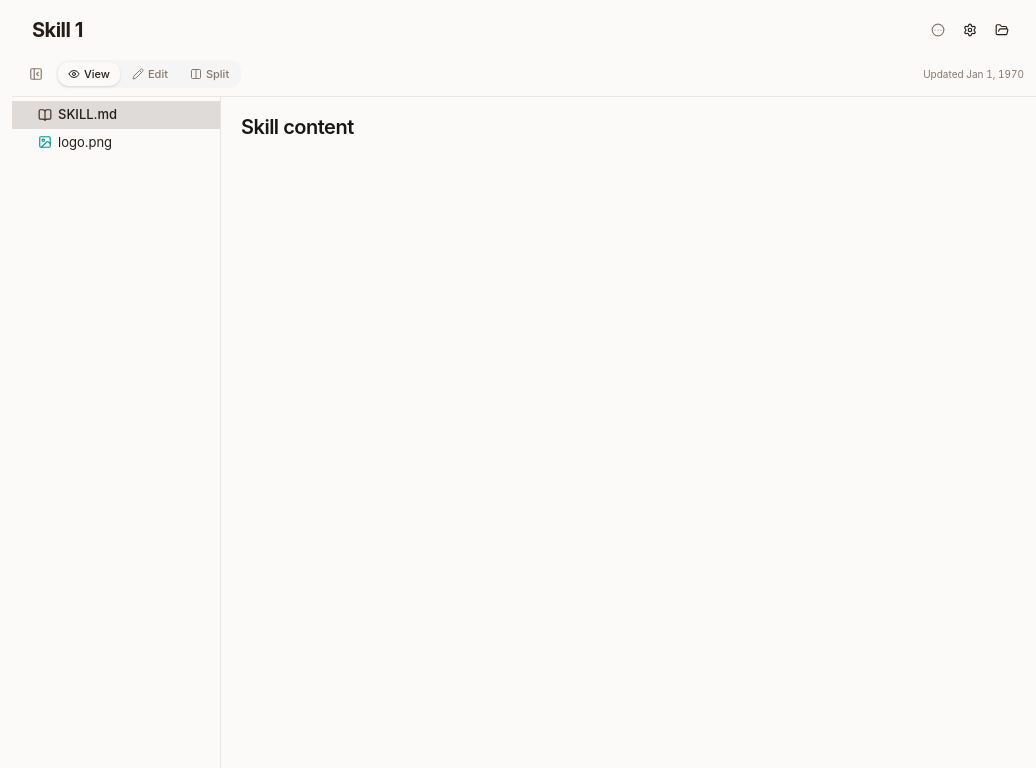
Scenario: SkillDetail › previews image files from the file tree
Click the button "logo.png" at (116,142), box [12,128,220,156]
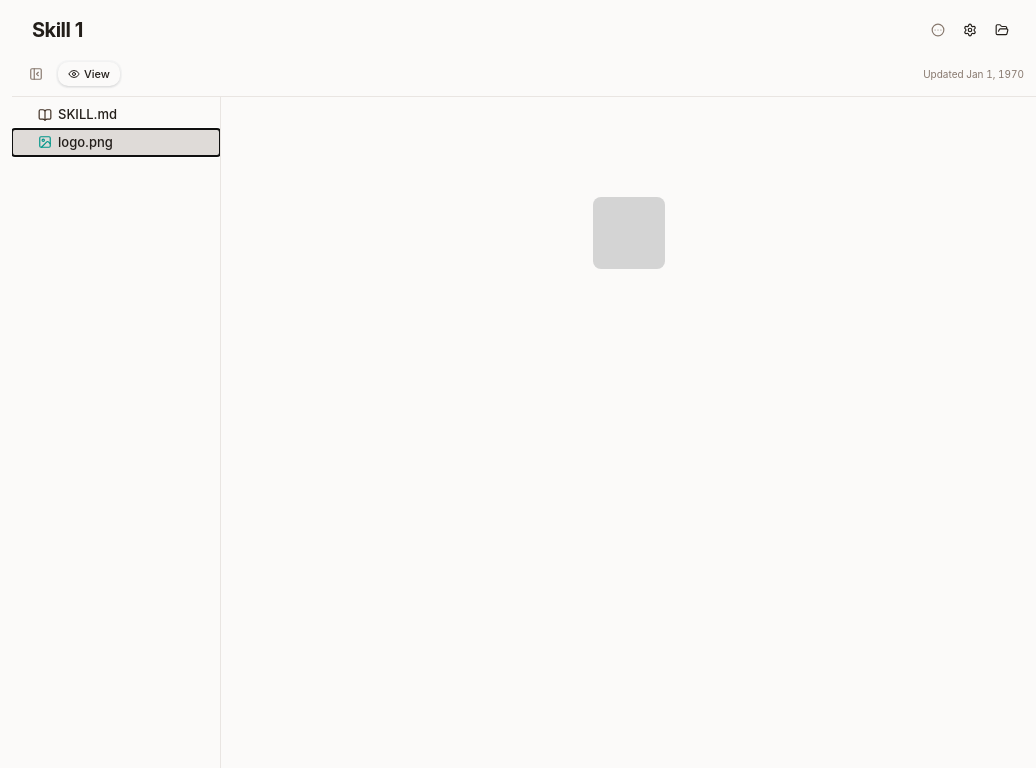
Check: the button "Edit" is gone
Check: the button "Split" is gone
